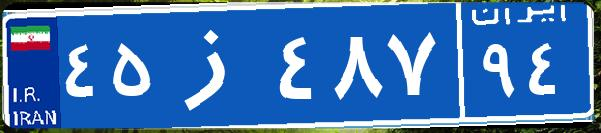4: (273, 28, 330, 110), (57, 26, 110, 107), (525, 38, 570, 115)
5: (110, 28, 158, 105)
7: (385, 28, 445, 110)
8: (330, 28, 385, 110)
9: (475, 38, 525, 113)
ز: (158, 15, 273, 115)
